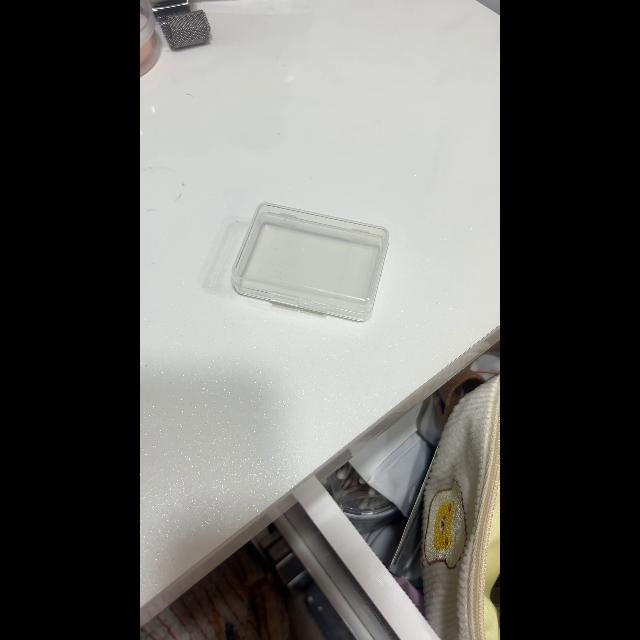clean: (238, 208, 388, 318)
